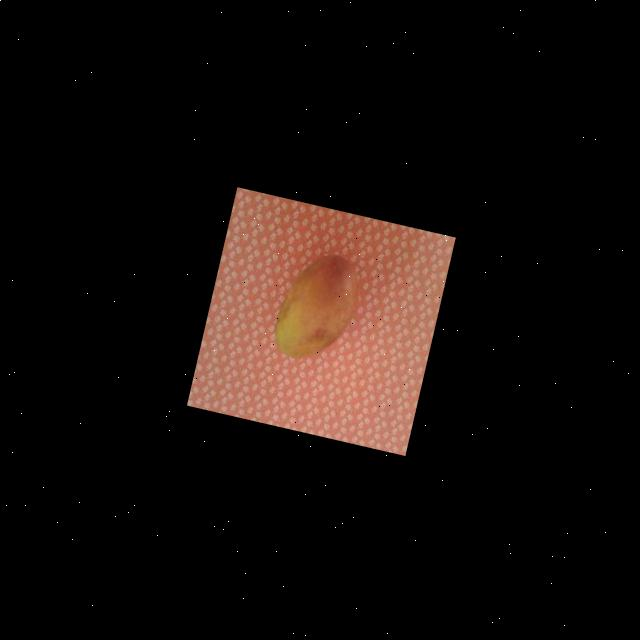Mango: (266, 244, 366, 370)
